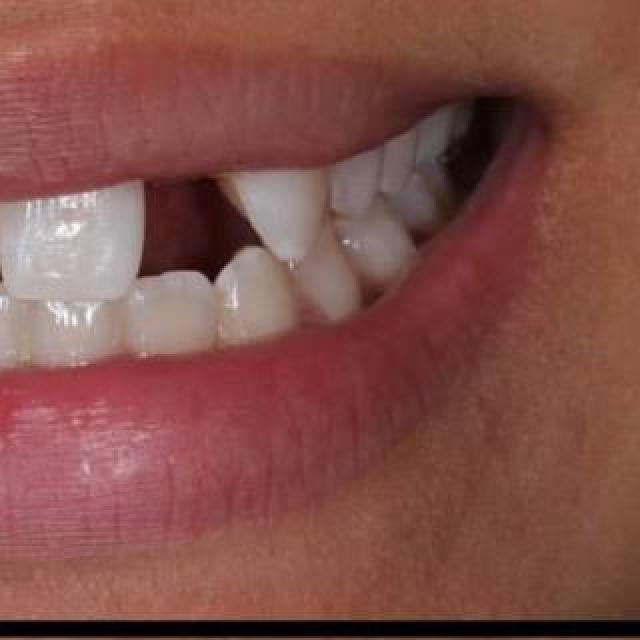missing: (107, 167, 269, 277)
